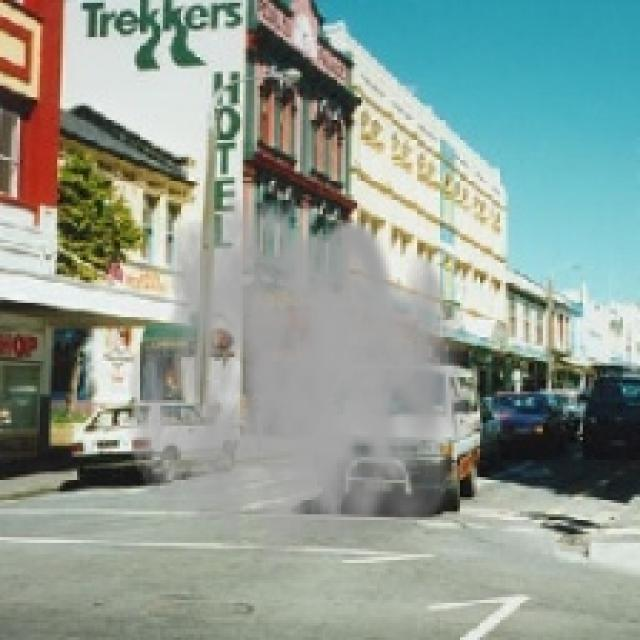smoke: (126, 183, 471, 600)
